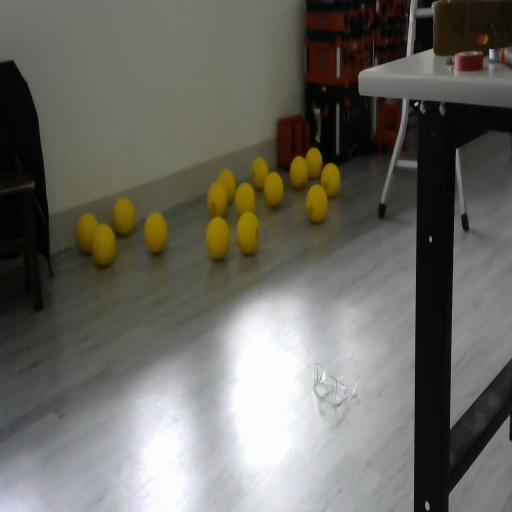FUEL: (204, 214, 230, 261), (90, 222, 116, 267), (236, 209, 260, 255), (144, 212, 168, 254), (306, 184, 328, 224), (113, 197, 135, 235), (234, 181, 256, 216), (320, 162, 341, 198), (216, 167, 236, 204), (264, 171, 284, 208), (304, 146, 324, 179), (250, 156, 269, 190), (289, 156, 308, 189)
